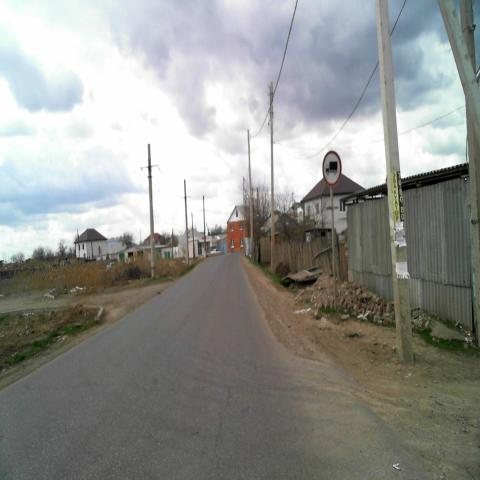3_4_1: (322, 151, 342, 185)
